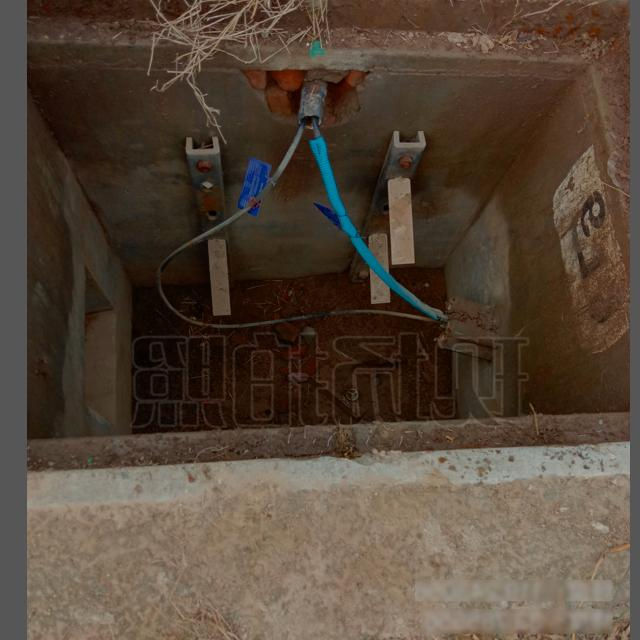lose: (27, 16, 627, 471)
